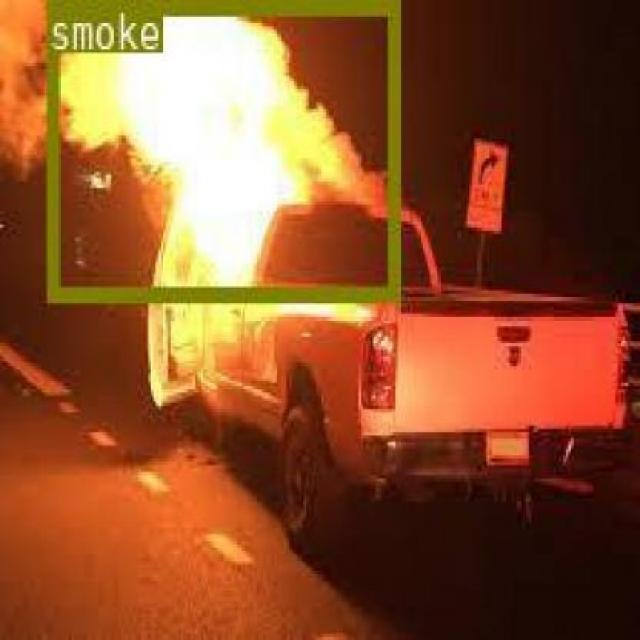Fire: (46, 0, 397, 297)
